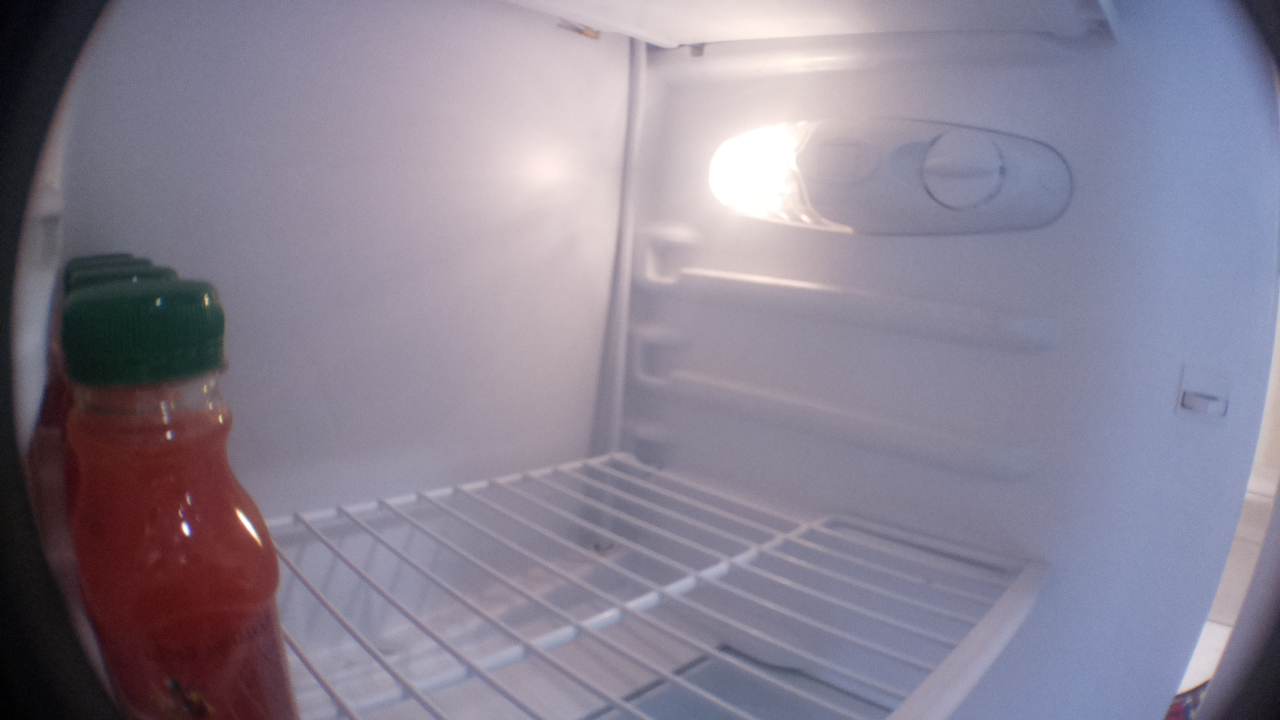juice: (54, 278, 302, 720), (64, 249, 175, 285)
